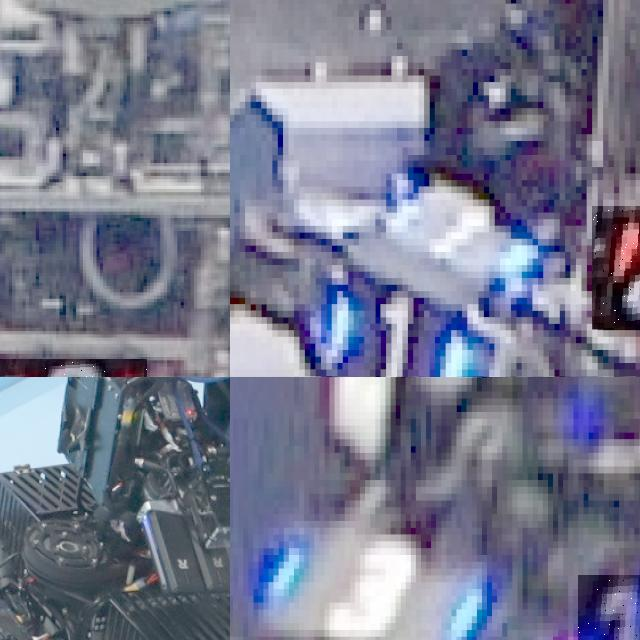B1: (372, 180, 552, 278), (312, 281, 470, 377)
B3: (578, 575, 640, 640)
R2: (592, 206, 640, 330), (0, 358, 148, 377)
